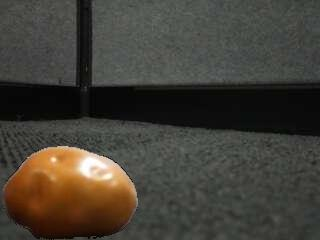Potato: (4, 147, 140, 240)
